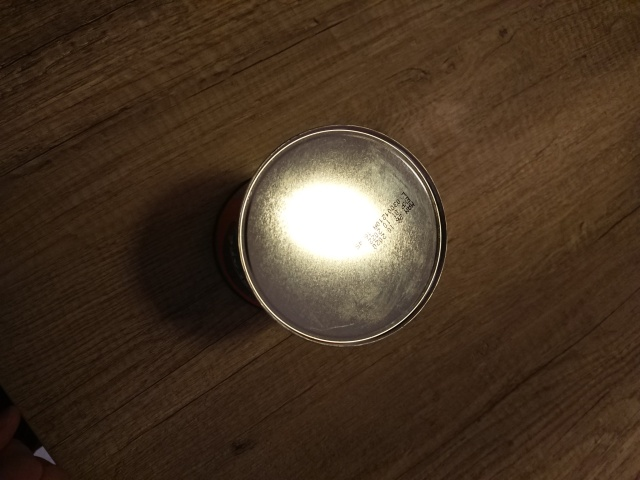Nescafe Classic 225g: (208, 121, 452, 351)
